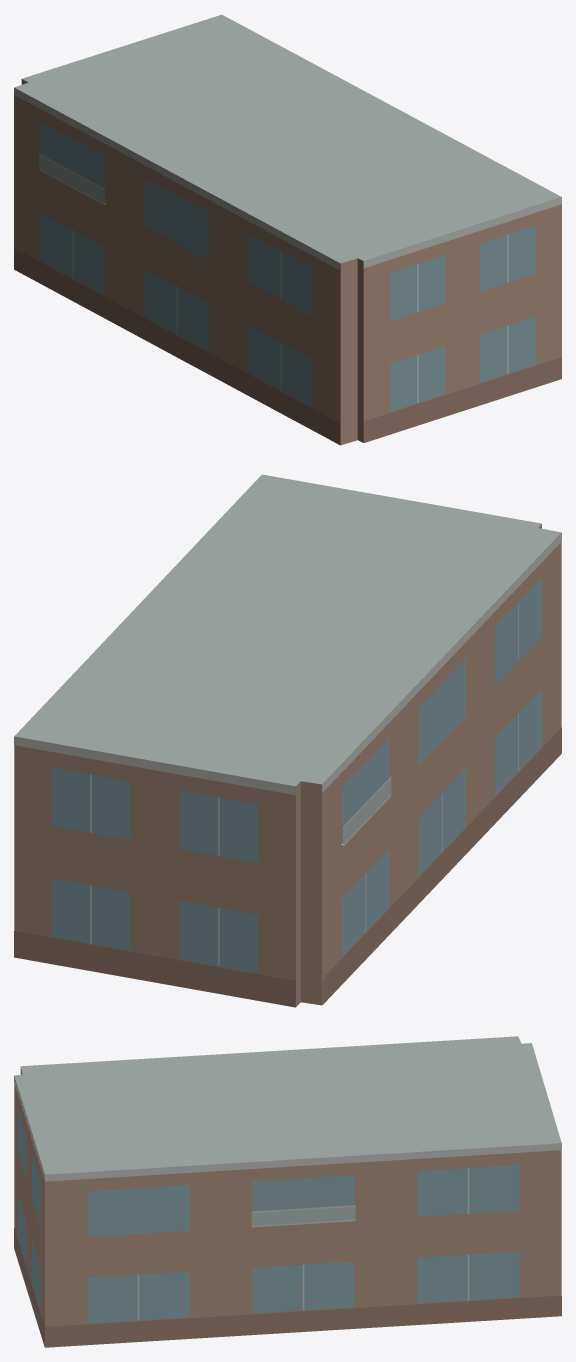
The model's file is survey-upis-32574456.glb.
3 views of the same model, one above another, from view 1: azimuth 30°, elevation 25°; view 2: azimuth 150°, elevation 25°; view 3: azimuth 270°, elevation 25° (orthographic). The views are drawn at different scales.
Parts seen in each view (by area): view 1: survey-upis-32574456.tmp; view 2: survey-upis-32574456.tmp; view 3: survey-upis-32574456.tmp.
Part boxes in pixels (x1,y1,x2,y2): survey-upis-32574456.tmp: [14, 14, 561, 445]; survey-upis-32574456.tmp: [14, 474, 561, 1007]; survey-upis-32574456.tmp: [14, 1036, 561, 1347].
Bounding box in the file's own units: 10.49 × 6.1 × 17.52.
